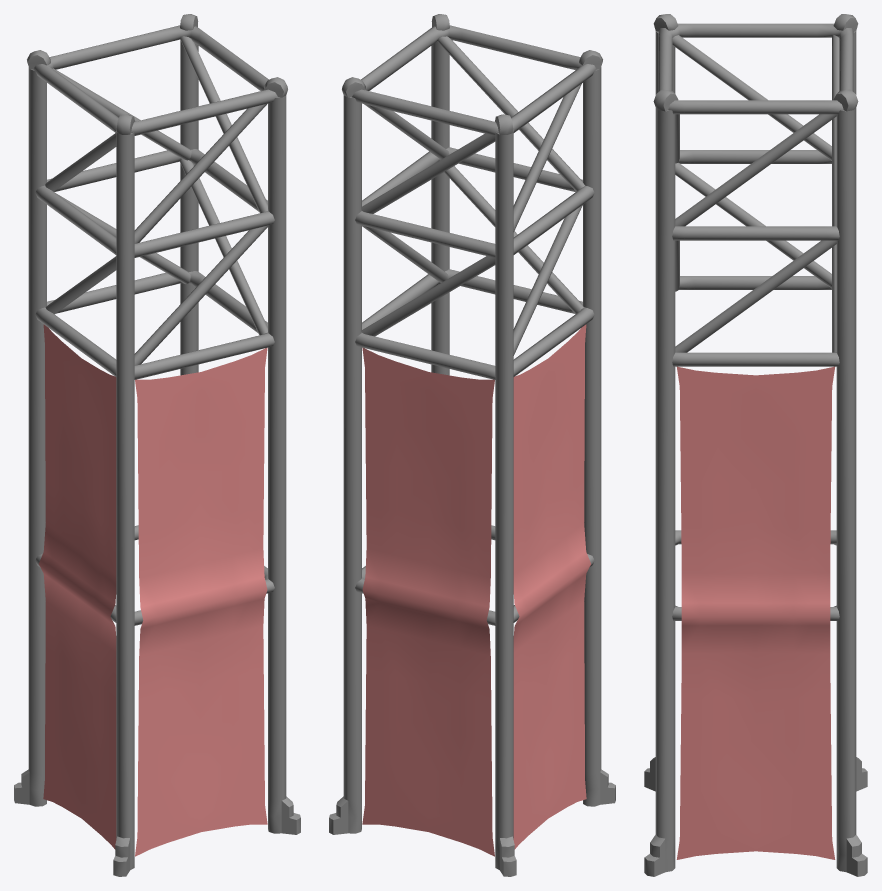
The model's file is Park_BannerScaffold00.gltf.
3 views of the same model, side by side, from view 1: azimuth 30°, elevation 25°; view 2: azimuth 150°, elevation 25°; view 3: azimuth 270°, elevation 25° (orthographic). The views are drawn at different scales.
Visible parts, largest first — view 1: Park_BannerScaffold00; view 2: Park_BannerScaffold00; view 3: Park_BannerScaffold00.
Boxes of the visible parts, bbox=[...] form: Park_BannerScaffold00: bbox=[14, 14, 300, 876]; Park_BannerScaffold00: bbox=[329, 14, 615, 876]; Park_BannerScaffold00: bbox=[644, 14, 867, 876].
Bounding box in the file's own units: 4.07 × 15.66 × 4.07.
